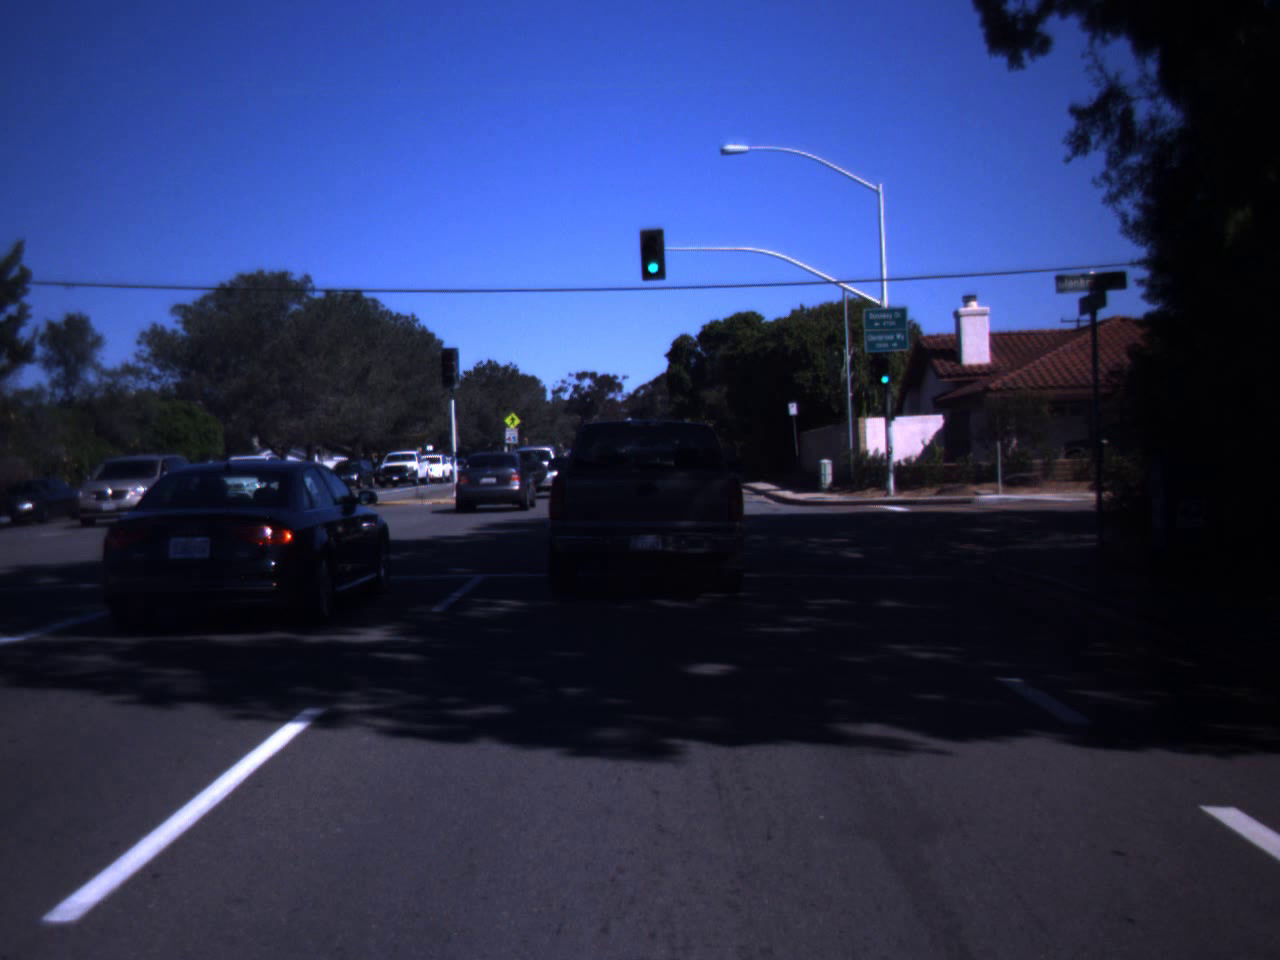go: (638, 238, 668, 278), (876, 359, 894, 384)
